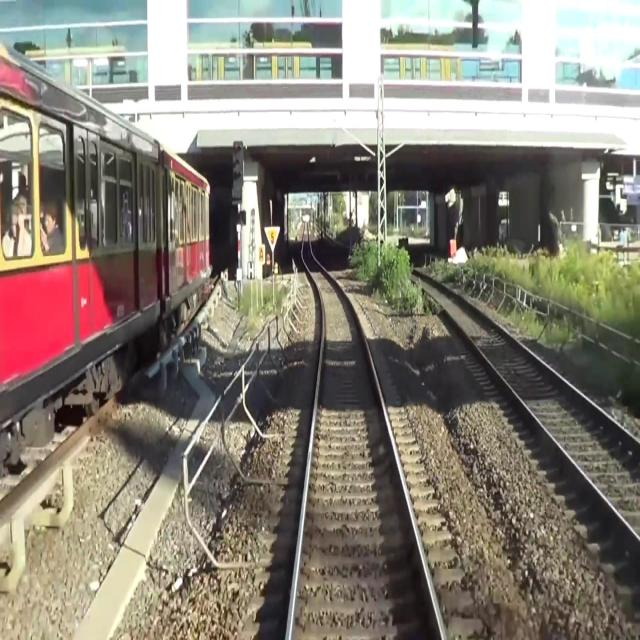rail-track: (290, 221, 441, 639), (411, 271, 640, 535)
